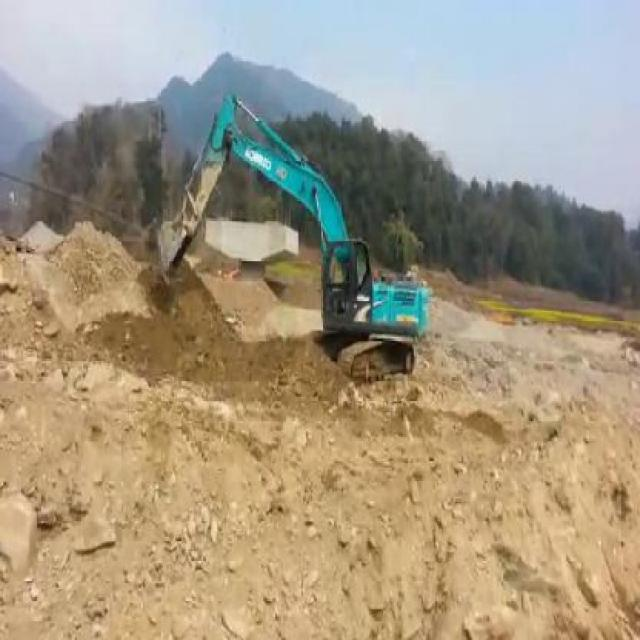Excavator: (154, 87, 431, 385)
